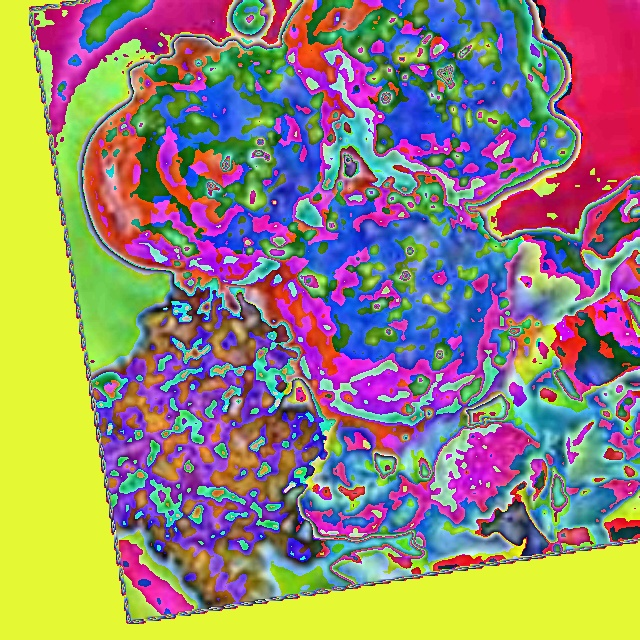background: (80, 0, 639, 610)
